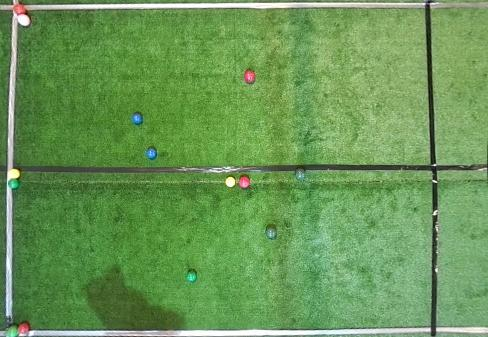blue: (146, 147, 157, 160), (132, 113, 143, 124)
green: (6, 323, 19, 336), (186, 270, 197, 282), (266, 226, 276, 239), (8, 180, 20, 190), (295, 168, 305, 179)
red: (17, 14, 30, 27), (238, 176, 250, 188), (244, 70, 255, 83), (13, 4, 26, 15), (18, 322, 29, 333)
vline: (424, 0, 487, 336), (0, 24, 20, 169), (0, 191, 13, 325)
white: (29, 331, 34, 335)
yellow: (8, 169, 20, 179), (225, 177, 235, 187)
